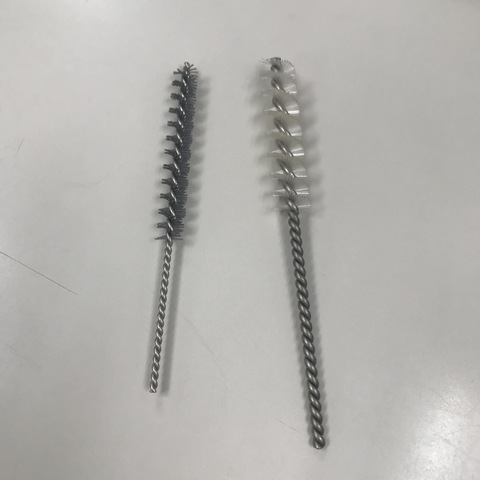Twist Brush-A: (139, 59, 204, 398)
Twist Brush-B: (244, 51, 356, 451)
